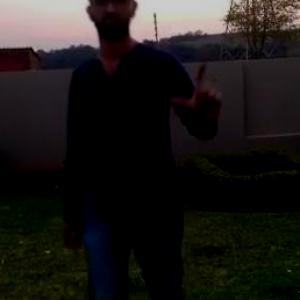land_hand: (169, 51, 234, 123)
